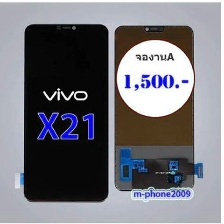phone: (21, 19, 111, 206), (112, 21, 196, 195)
